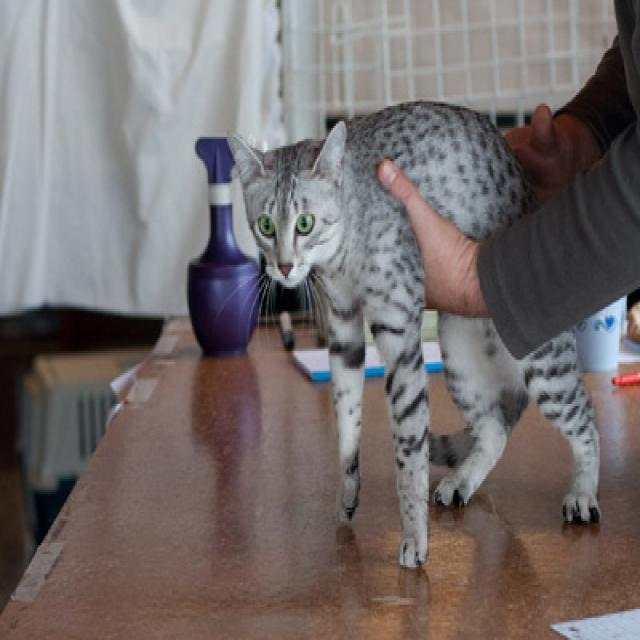Egyptian_Mau: (224, 117, 344, 285)
